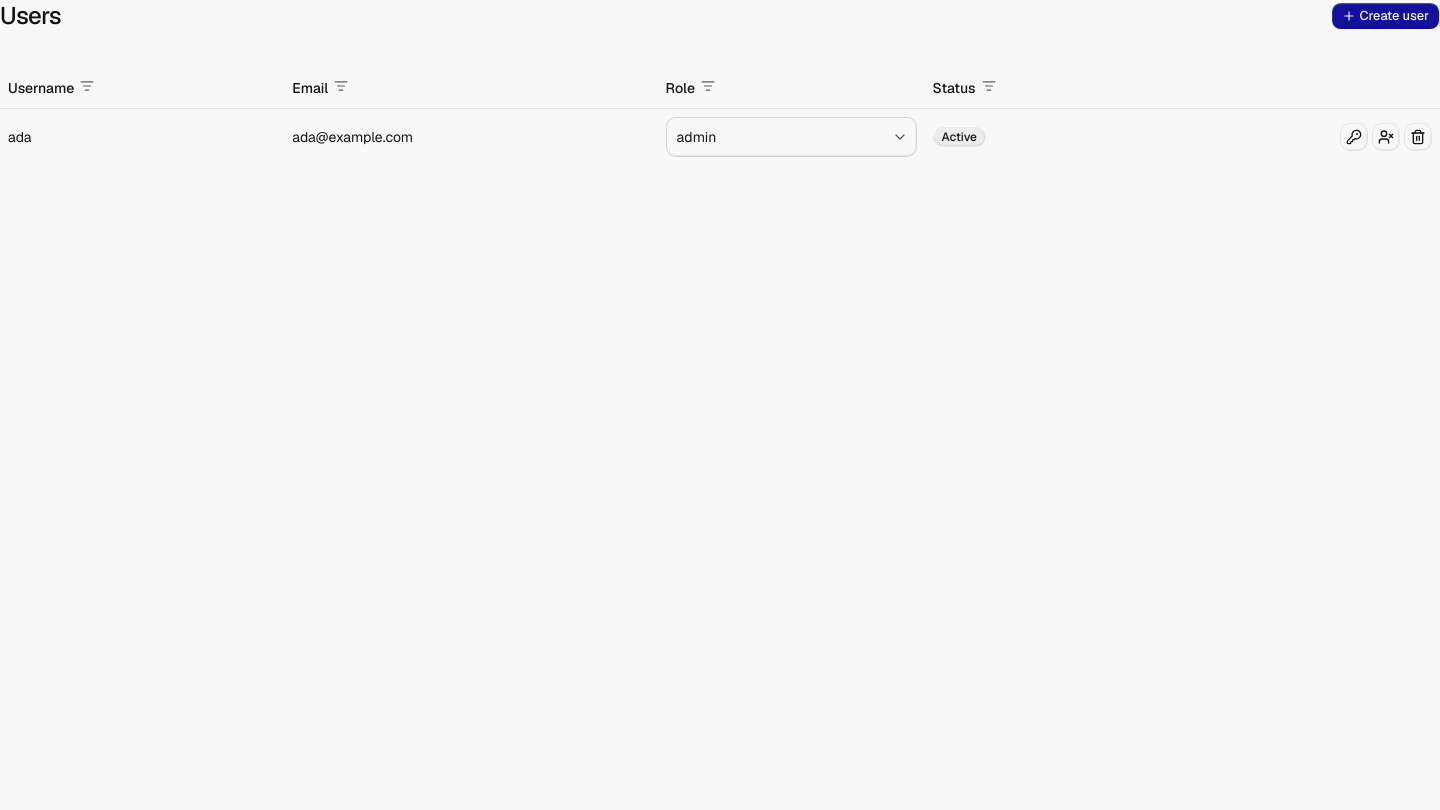
create user › keeps the form in a dialog opened by the button under the heading
Click the button "Create user". click: coordinates (1385, 16)
box: [1330, 2, 1439, 30]
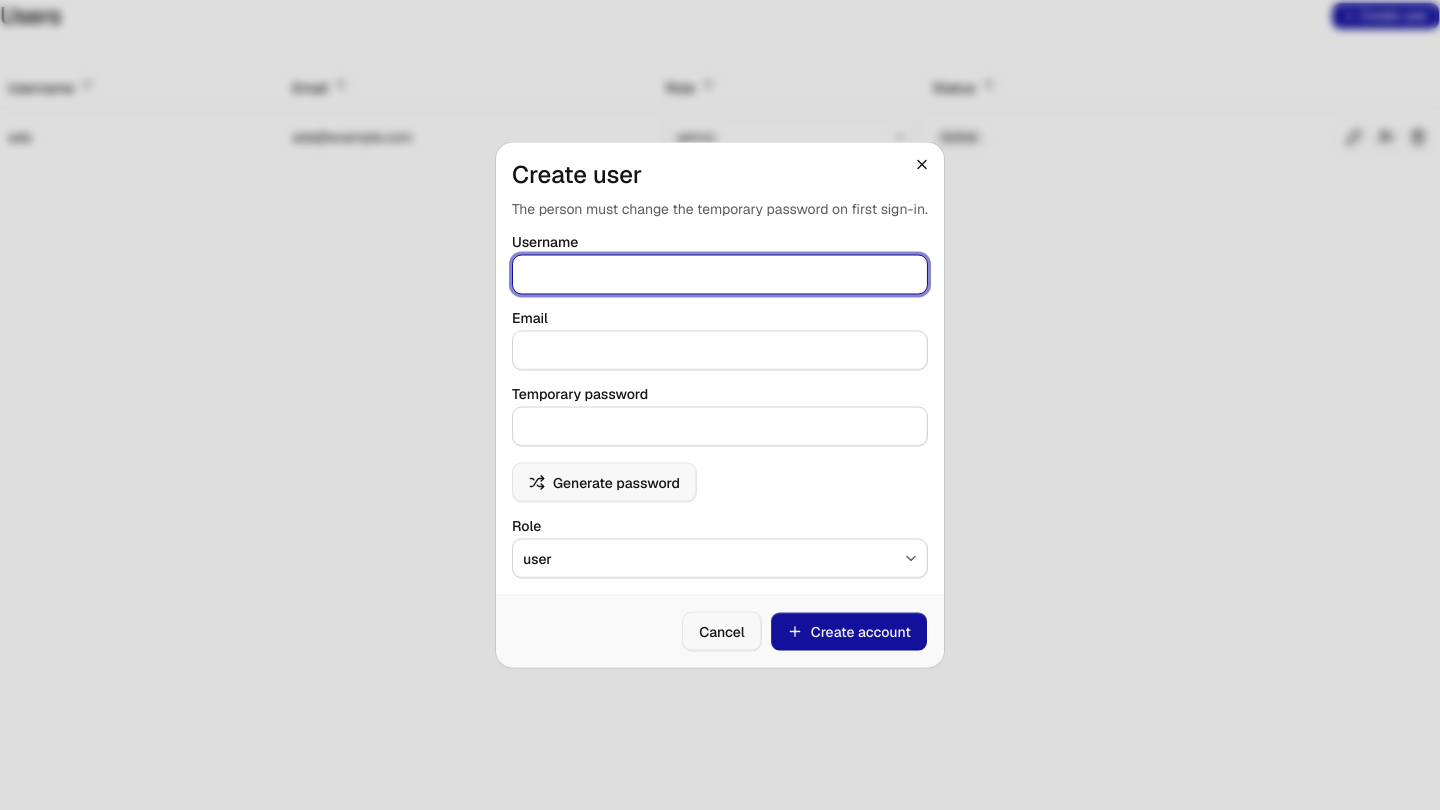
Expected: the heading "Create user" is shown, [512, 158, 642, 190]
Expected: the field labelled "Username" is shown, [512, 254, 928, 294]
Expected: the field labelled "Email" is shown, [512, 330, 928, 370]
